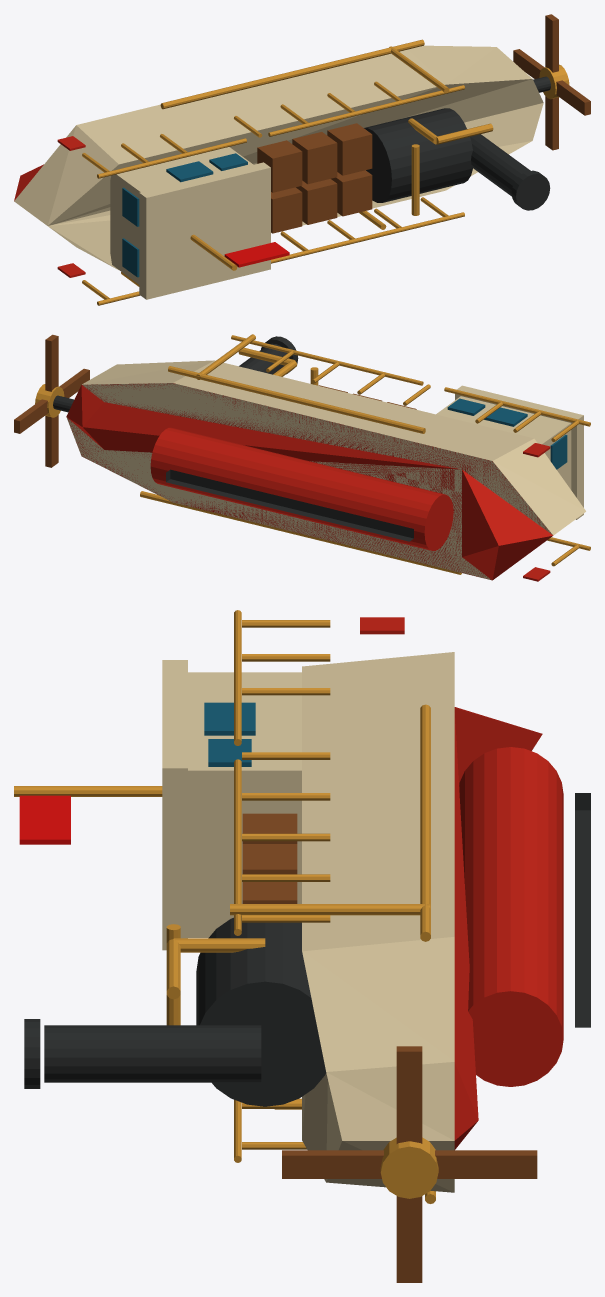
Rendered from wild_wind_ship_placeholder.obj.
The picture shows the model from 3 angles, top to bottom: view 1: azimuth 30°, elevation 25°; view 2: azimuth 150°, elevation 25°; view 3: azimuth 270°, elevation 25°; orthographic projection. The views are drawn at different scales.
Visible parts, largest first — view 1: WildWind_Ship_Placeholder; view 2: WildWind_Ship_Placeholder; view 3: WildWind_Ship_Placeholder.
Boxes of the visible parts, box(x1,y1,x2,y2) form: WildWind_Ship_Placeholder: box(14, 14, 590, 305); WildWind_Ship_Placeholder: box(14, 334, 590, 581); WildWind_Ship_Placeholder: box(14, 610, 590, 1282).
Size of the model in its own units: 6.87 by 1.71 by 3.59.
